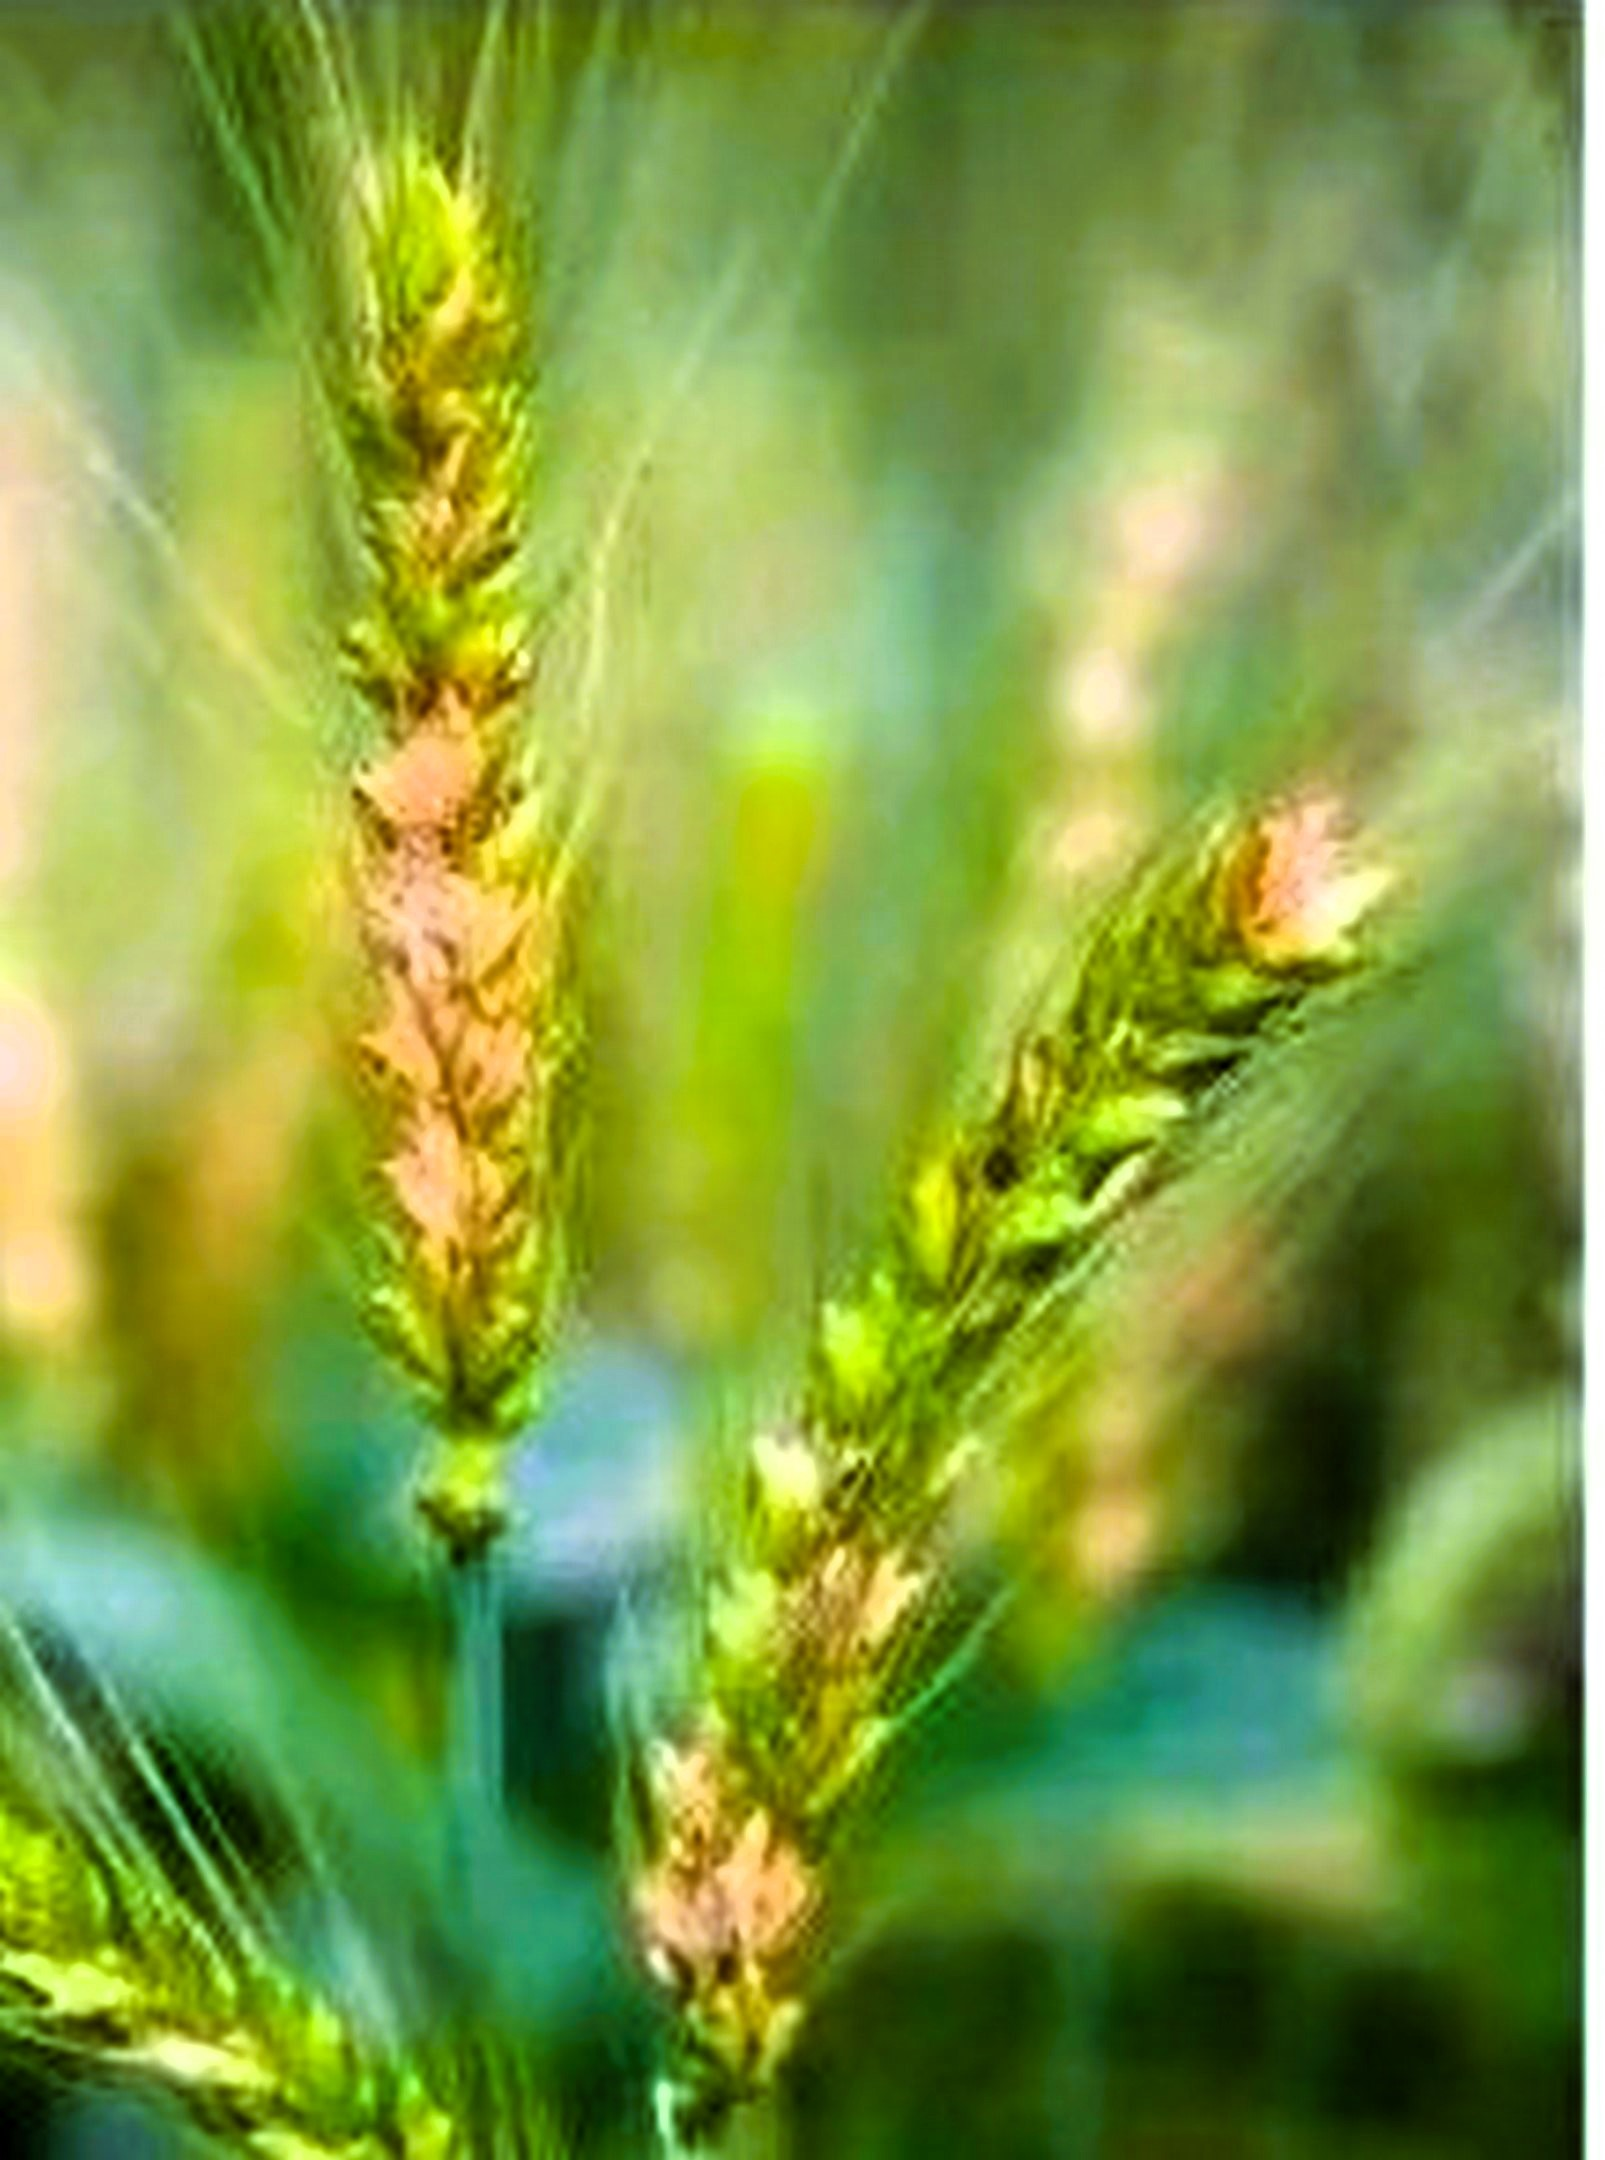Wheat scab: (292, 138, 615, 1469)
